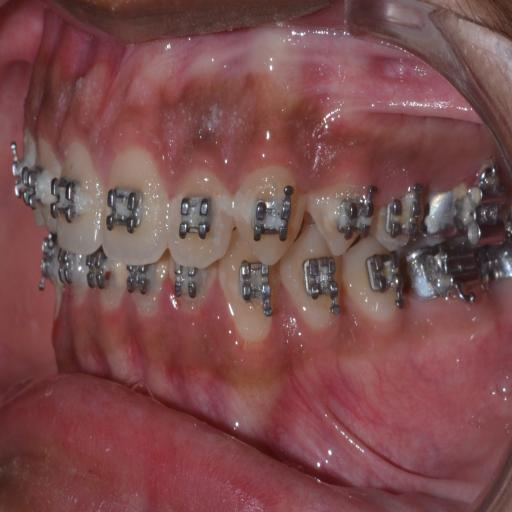correct_brace: (310, 176, 378, 254), (252, 184, 294, 243), (106, 181, 148, 237), (177, 190, 214, 240)
incorrect_brace: (168, 158, 230, 261), (332, 189, 374, 246)
